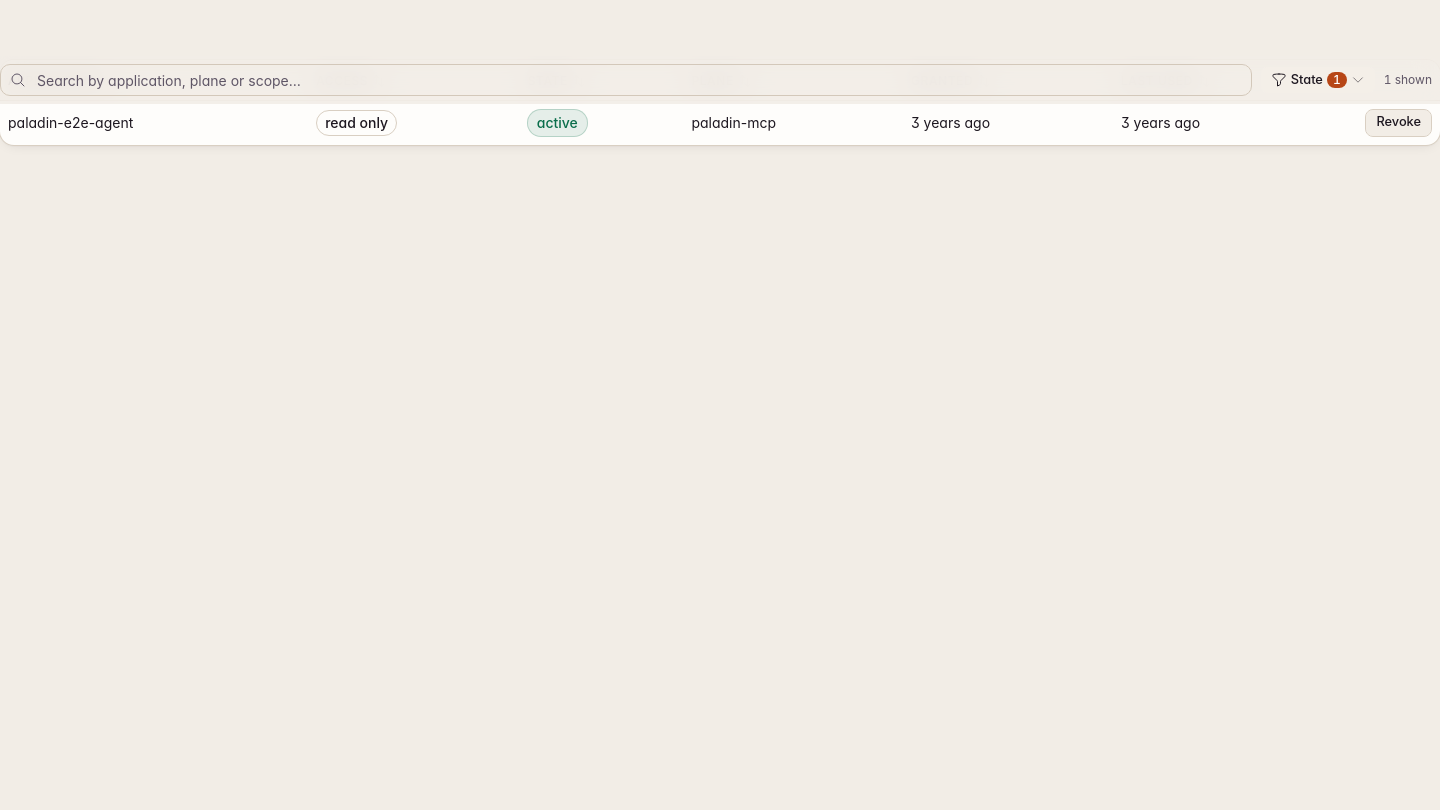
Test: ConnectedApplications › opens an application's grant from its row, scopes spelled out
Click the row "paladin-e2e-agent".
click(720, 122)  # box [0,100,1439,144]
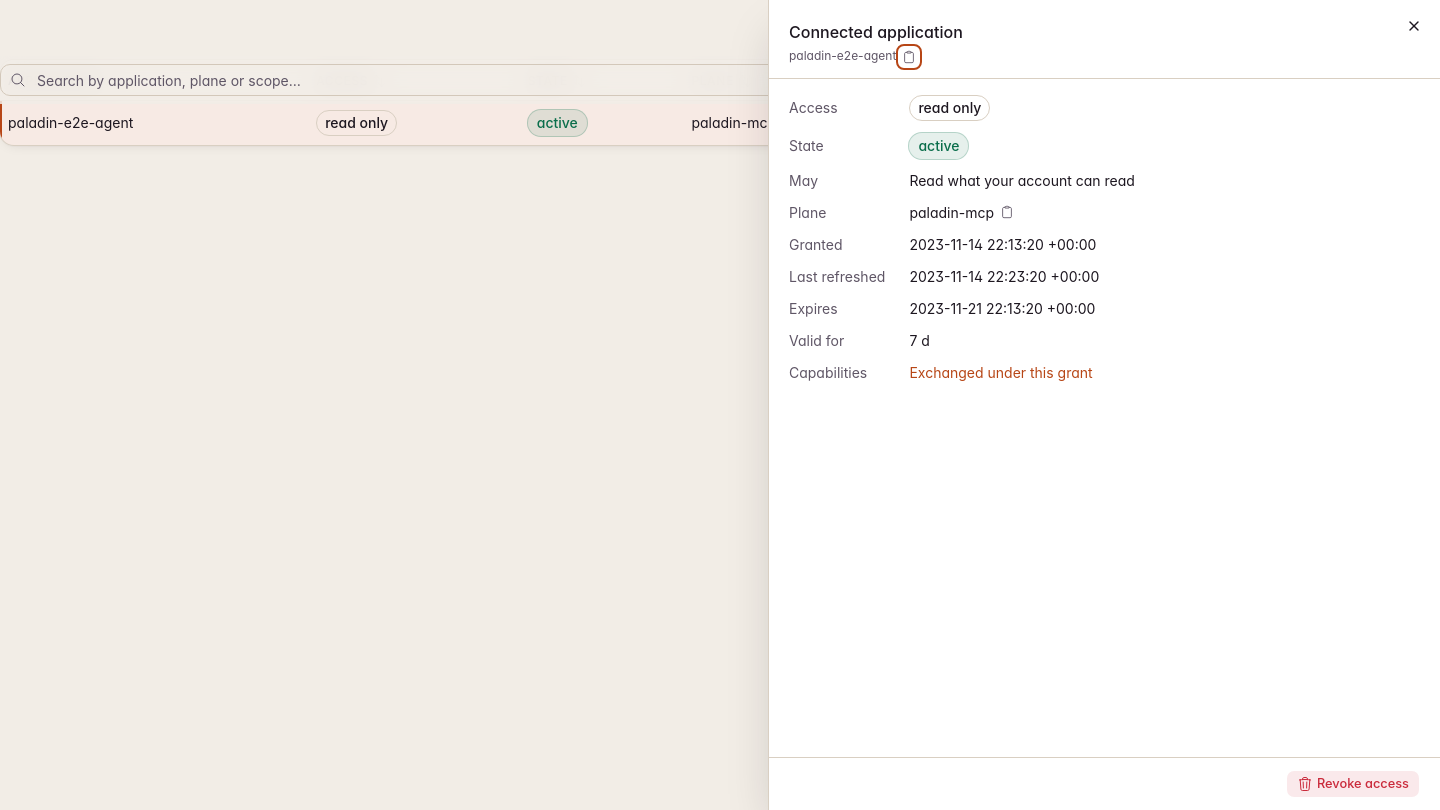
Check: the list item "Read what your account can read" is shown, box [909,172,1135,189]
Check: the text "paladin-mcp" is shown, box [909,203,994,223]
